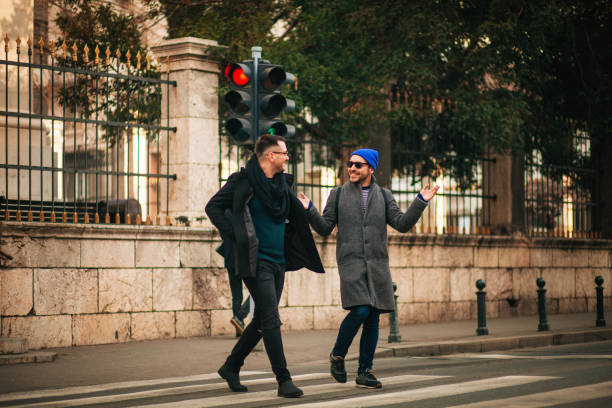red_light: (224, 60, 257, 90)
yaya: (201, 136, 325, 397), (319, 138, 435, 376)
